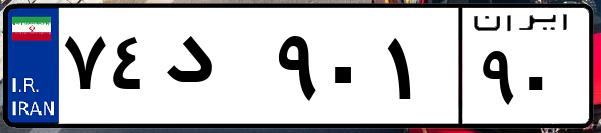0: (330, 28, 385, 110), (525, 38, 570, 115)
1: (385, 28, 445, 110)
4: (110, 28, 158, 98)
7: (57, 26, 110, 100)
9: (270, 28, 330, 110), (475, 38, 525, 113)
د: (158, 20, 270, 120)
